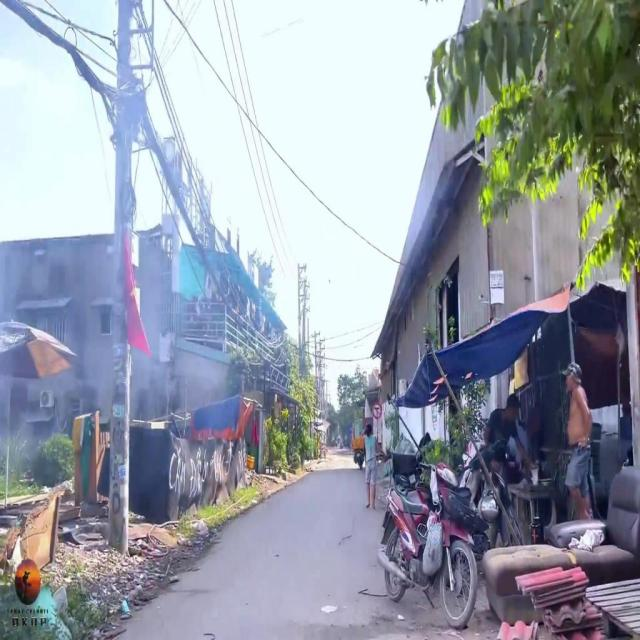cam_re_trai_va_phai: (373, 404, 382, 419)
